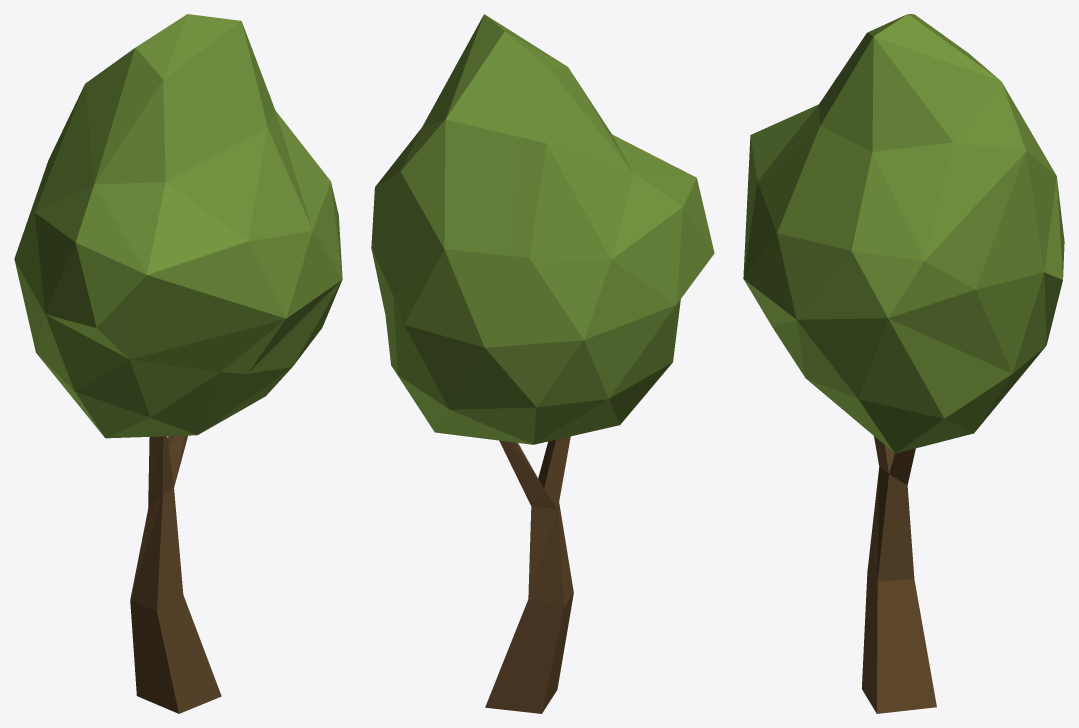
Rendered from Tree_13.fbx.
3 views of the same model, side by side, from view 1: azimuth 30°, elevation 25°; view 2: azimuth 150°, elevation 25°; view 3: azimuth 270°, elevation 25° (orthographic). The views are drawn at different scales.
Visible parts, largest first — view 1: Tree_13; view 2: Tree_13; view 3: Tree_13.
Boxes of the visible parts, box(x1,y1,x2,y2) form: Tree_13: box(14, 14, 342, 713); Tree_13: box(371, 14, 714, 713); Tree_13: box(743, 14, 1064, 713).
Bounding box in the file's own units: 102 × 220 × 92.8.
